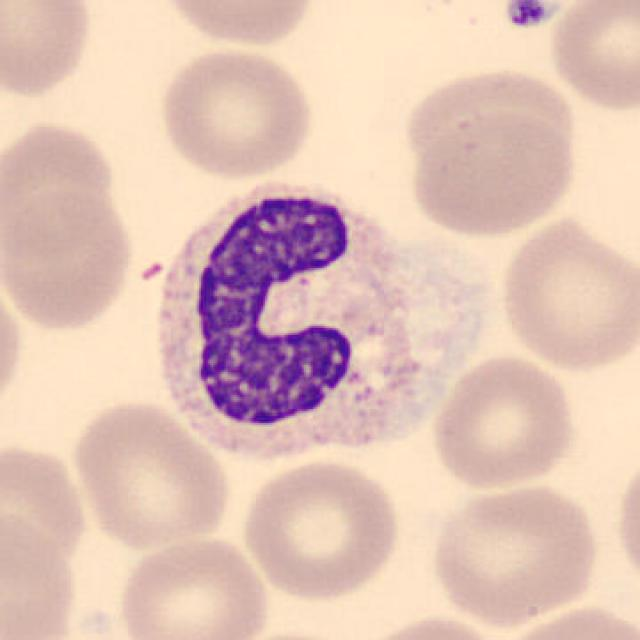Neutrophil: (135, 169, 455, 482)
Platelets: (503, 0, 553, 30)
RBC: (427, 480, 602, 628), (68, 397, 234, 552), (238, 455, 406, 603), (404, 104, 582, 240), (402, 62, 588, 192), (494, 212, 636, 376), (153, 42, 316, 182), (427, 351, 581, 492), (2, 185, 138, 335), (0, 116, 123, 260), (114, 530, 272, 640), (0, 436, 91, 576), (0, 508, 84, 640), (544, 0, 640, 115), (0, 0, 98, 102), (153, 0, 320, 49), (492, 599, 638, 640), (350, 612, 510, 640), (611, 444, 640, 597), (0, 266, 28, 423), (222, 627, 369, 640)
